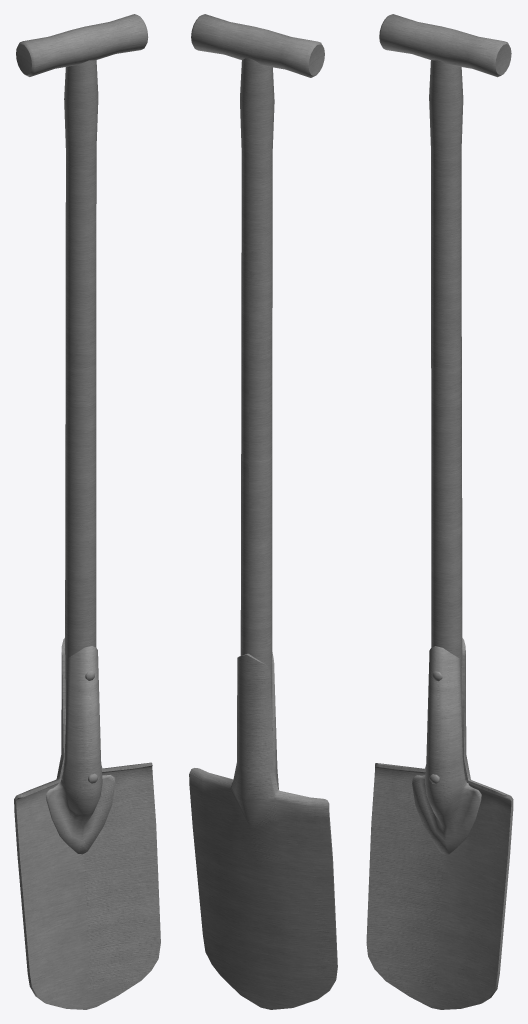
Rendered from Paddling tool.fbx.
3 views of the same model, side by side, from view 1: azimuth 30°, elevation 25°; view 2: azimuth 150°, elevation 25°; view 3: azimuth 330°, elevation 25° (orthographic).
Visible parts, largest first — view 1: SM_Shovel_01_MI_ShoveL01a_0.001; view 2: SM_Shovel_01_MI_ShoveL01a_0.001; view 3: SM_Shovel_01_MI_ShoveL01a_0.001.
Part boxes in pixels (x1,y1,x2,y2): SM_Shovel_01_MI_ShoveL01a_0.001: (14, 14, 160, 1009); SM_Shovel_01_MI_ShoveL01a_0.001: (189, 14, 337, 1009); SM_Shovel_01_MI_ShoveL01a_0.001: (366, 14, 513, 1009).
Size of the model in its own units: 1981 by 13349 by 625.
1 material, 1 textured.
